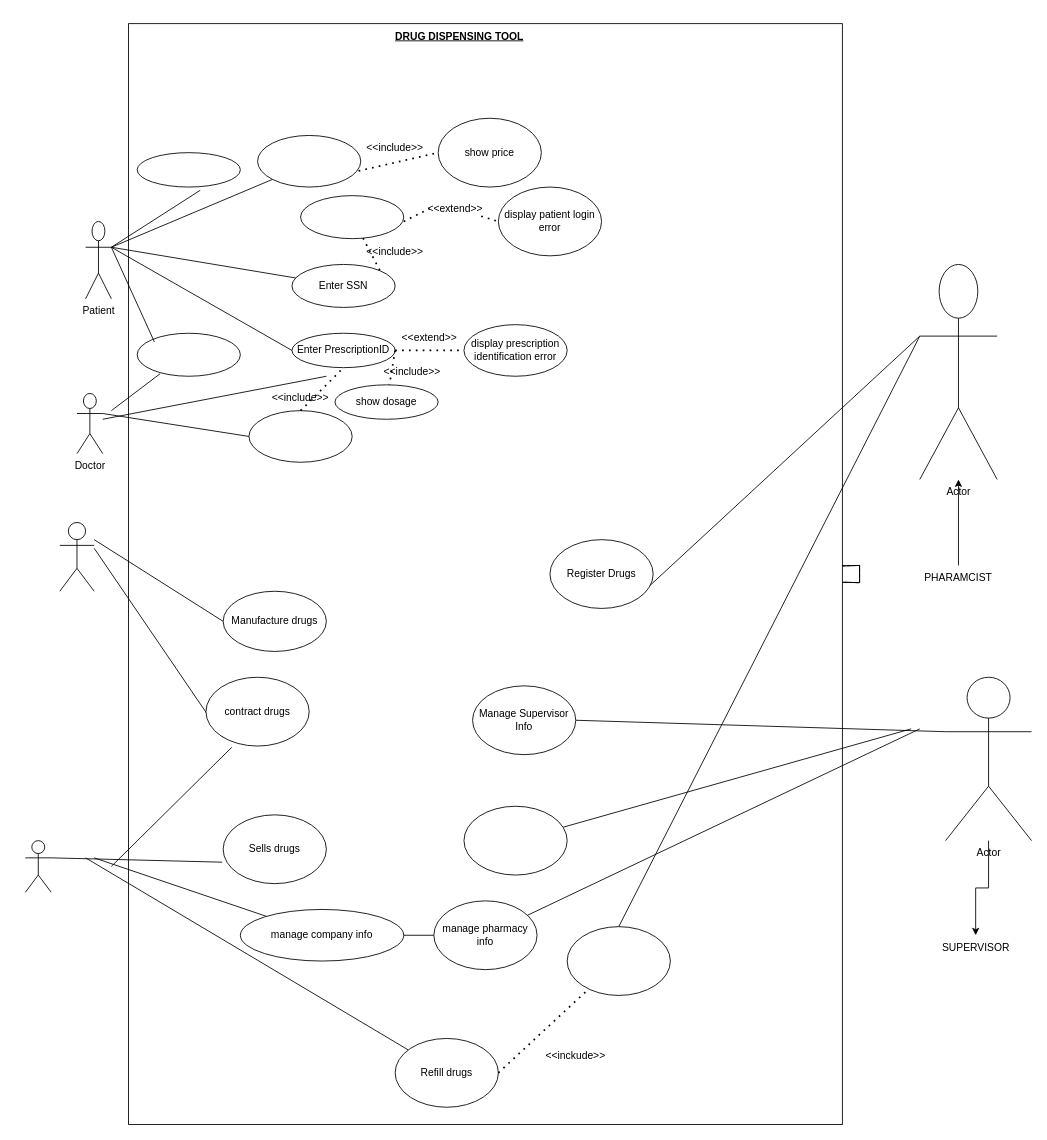
Some shapes in this 1047 by 1140 pixel diagram are drawn without their labels. Each missing label, with the centre of its shape:
buy drugs: [309,161]
Give Prescription: [300,436]
Manage contract: [515,840]
manage inventory: [618,960]
PHARMACEUTICAL COMPANY: [76,556]
Pharmacy: [38,866]
Use insurance: [188,169]
Verify SSN: [352,217]
View prescription history: [188,354]
